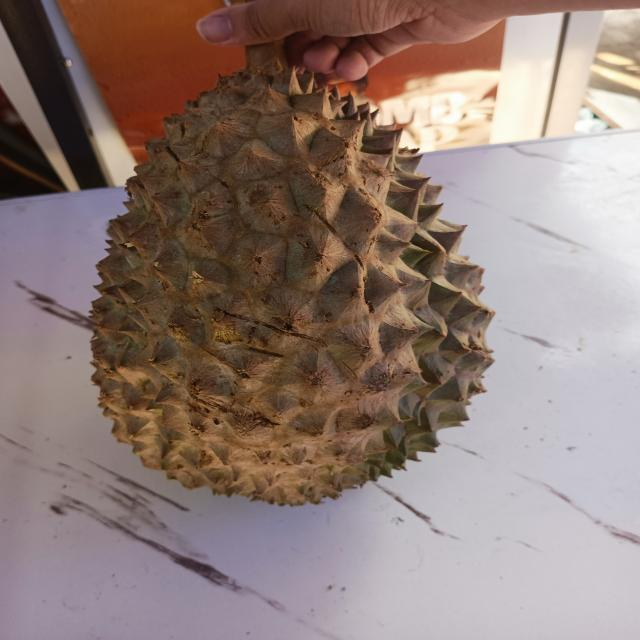mature: (74, 55, 509, 519)
